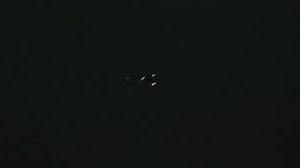Plane: (103, 66, 181, 98)
